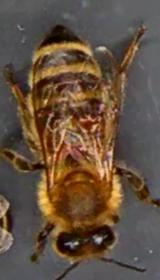varroa_mite: (75, 107, 102, 136)
